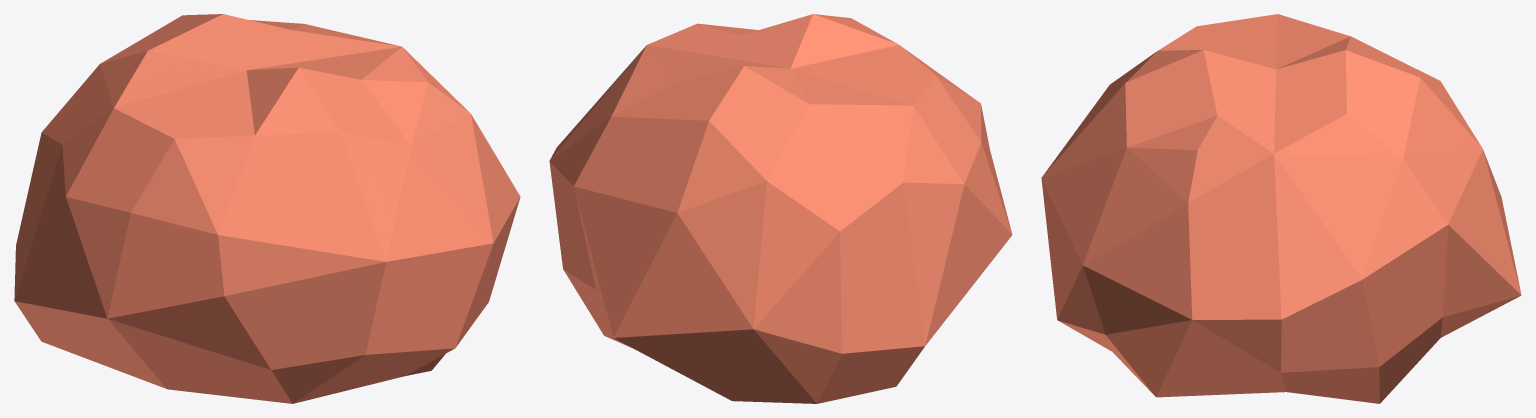
File: bush.fbx
The picture shows the model from 3 angles, left to right: view 1: azimuth 30°, elevation 25°; view 2: azimuth 150°, elevation 25°; view 3: azimuth 270°, elevation 25°; orthographic projection. The views are drawn at different scales.
Visible parts, largest first — view 1: Bush; view 2: Bush; view 3: Bush.
Boxes of the visible parts, x1,y1,x2,y2 form: Bush: (14, 14, 520, 403); Bush: (549, 14, 1012, 403); Bush: (1041, 14, 1521, 403).
Size of the model in its own units: 300 by 205 by 300.
